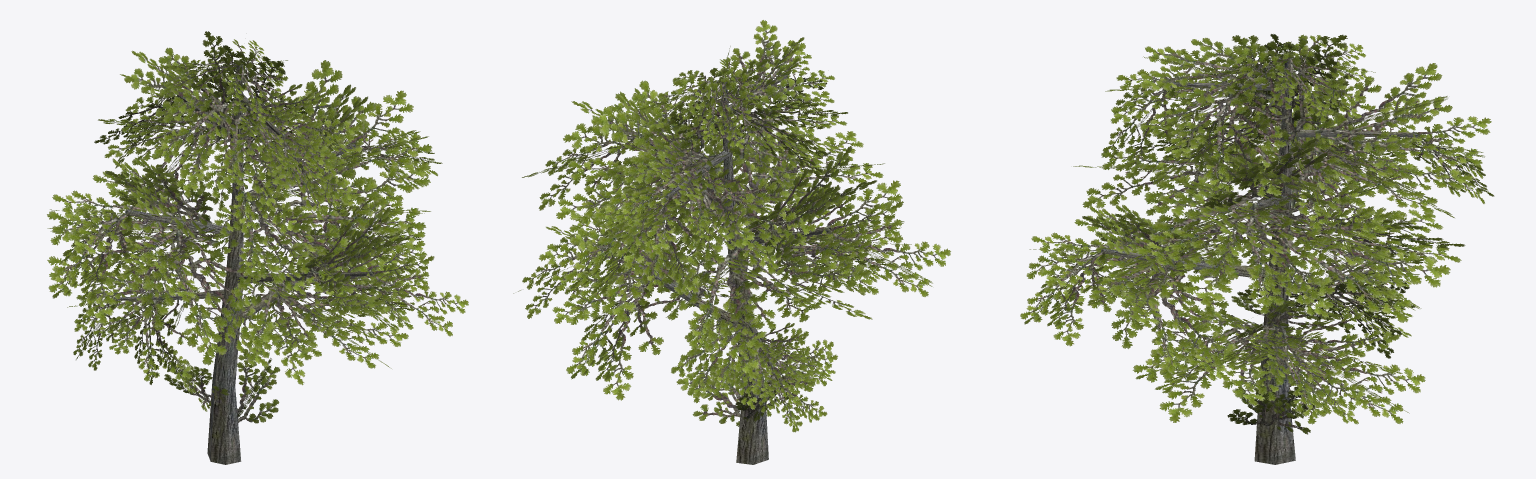
Rendered from flora-trees-oak.glb.
3 views of the same model, side by side, from view 1: azimuth 30°, elevation 25°; view 2: azimuth 150°, elevation 25°; view 3: azimuth 270°, elevation 25° (orthographic). The views are drawn at different scales.
Parts seen in each view (by area): view 1: Cube; view 2: Cube; view 3: Cube.
Part boxes in pixels (box(x1,y1,x2,y2)): Cube: box(47, 31, 468, 464); Cube: box(513, 20, 950, 464); Cube: box(1020, 34, 1494, 464).
Bounding box in the file's own units: 8.89 × 8.01 × 8.77.
1 material, 1 textured.
